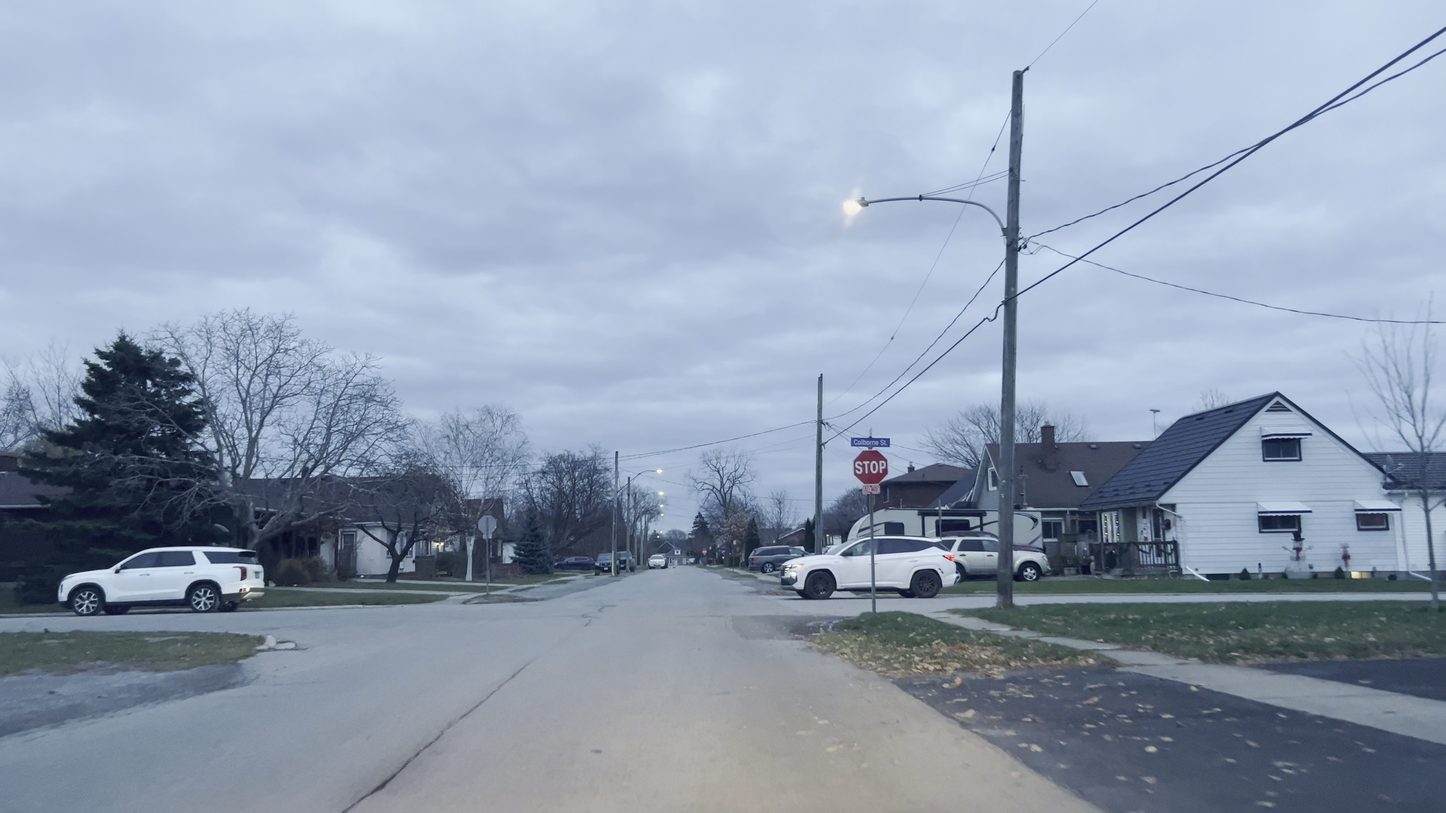cracks: (350, 706, 473, 800)
